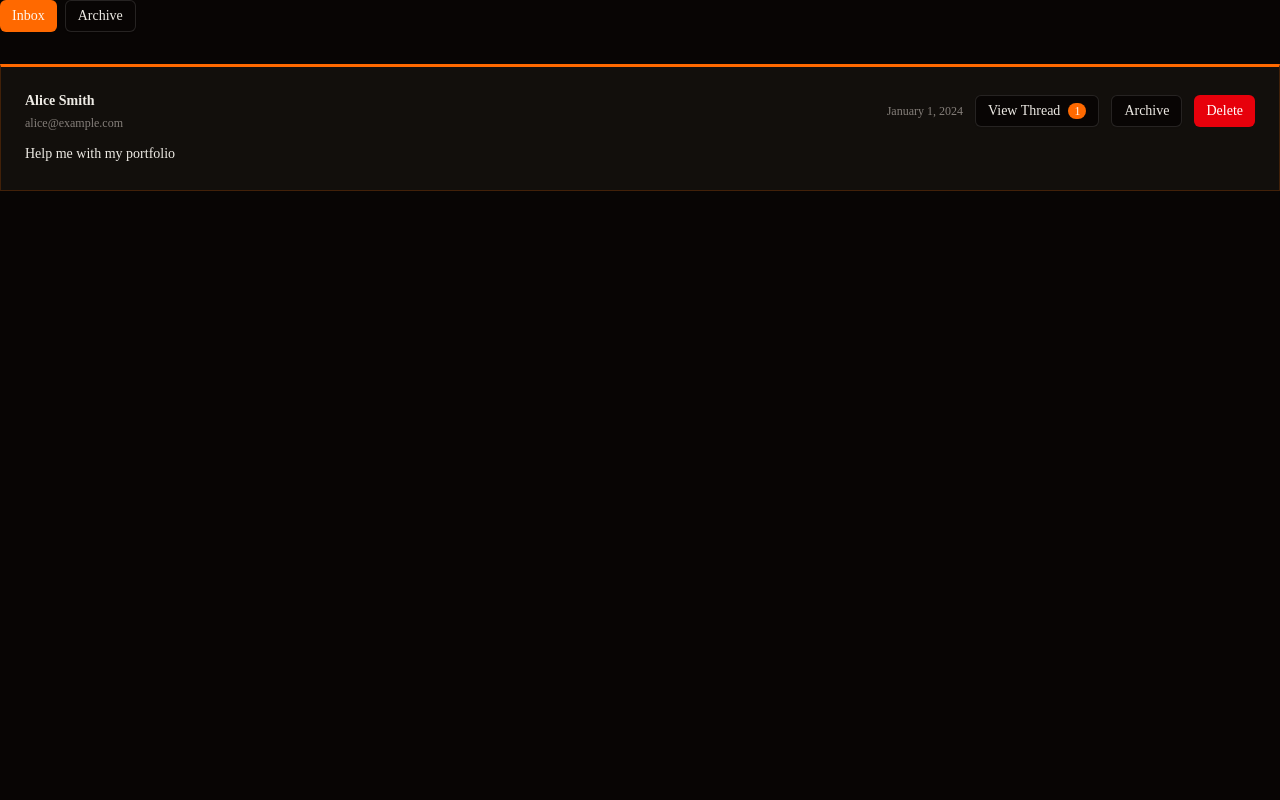
Test: AdminContent ThreadPanel as Sheet › Sheet closes when the built-in X button is clicked
Click the button "View Thread 1": (1037, 111) x1=975 y1=95 x2=1099 y2=127
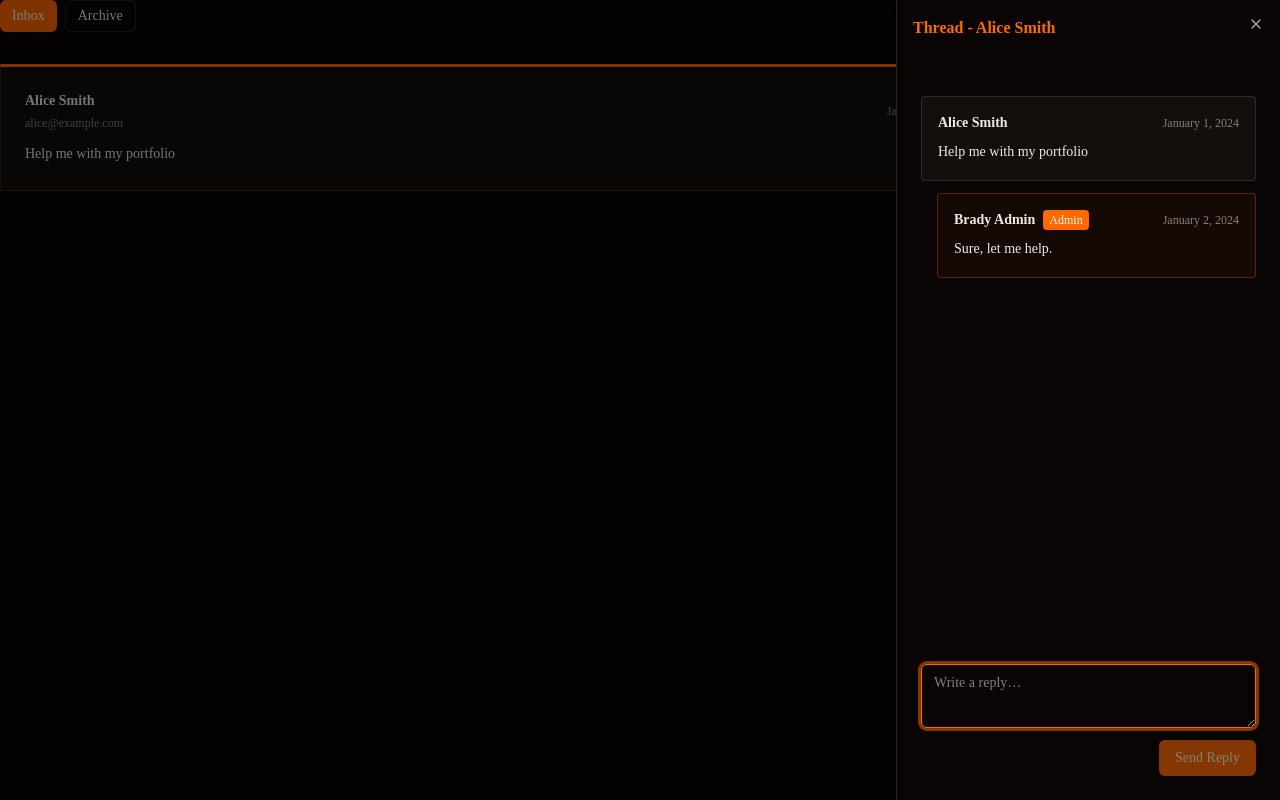
Expected: the dialog is shown, x1=896 y1=0 x2=1279 y2=799
Click the button named "close": (1256, 24) x1=1248 y1=16 x2=1264 y2=32
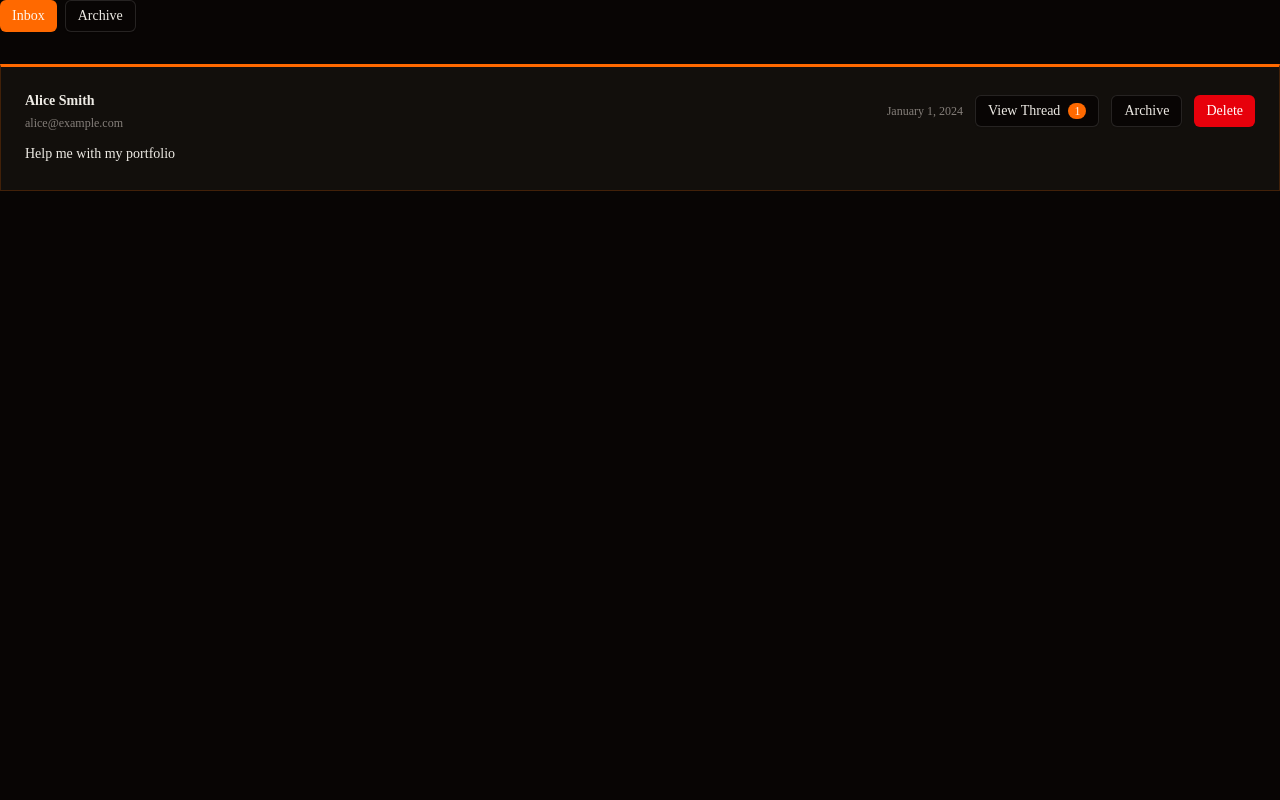
Expected: the dialog is gone
